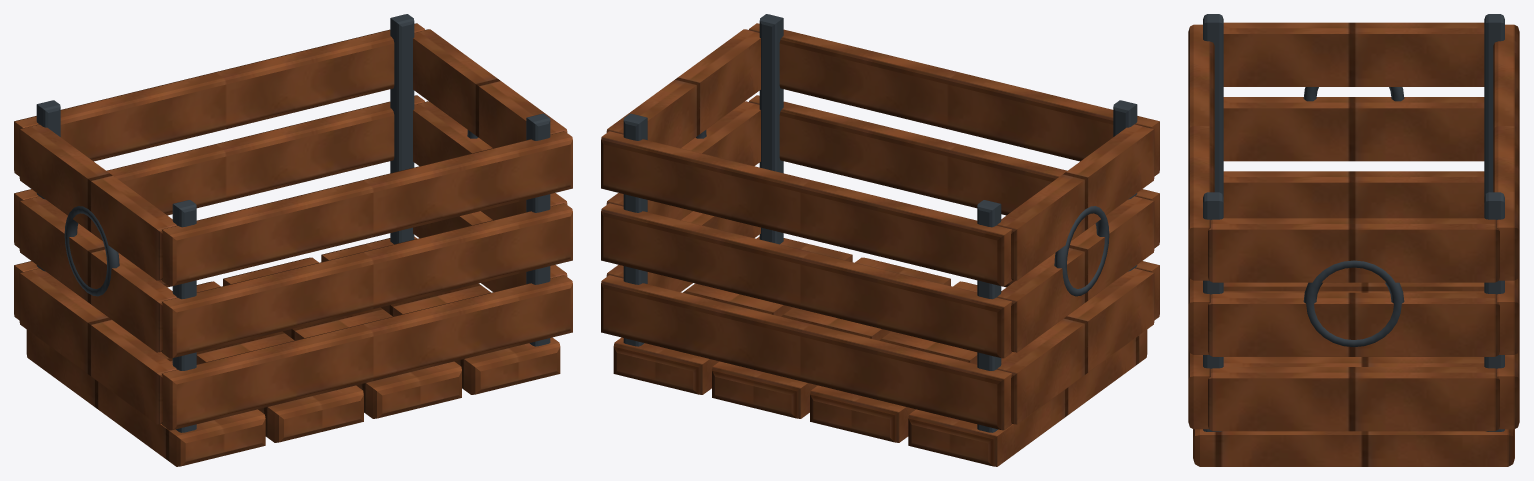
Rendered from hollowwick-halloween-slatted-harvest-crate-d3482e79__21594.glb.
3 renders of one model, left to right at view 1: azimuth 30°, elevation 25°; view 2: azimuth 150°, elevation 25°; view 3: azimuth 270°, elevation 25°, orthographic. The views are drawn at different scales.
Parts seen in each view (by area): view 1: slatted-harvest-crate; view 2: slatted-harvest-crate; view 3: slatted-harvest-crate.
Part boxes in pixels (<box>): slatted-harvest-crate: <box>14,14,572,466</box>; slatted-harvest-crate: <box>601,14,1159,466</box>; slatted-harvest-crate: <box>1188,14,1519,466</box>.
Size of the model in its own units: 0.8391 by 0.495 by 0.565.
2 materials, 1 textured.
